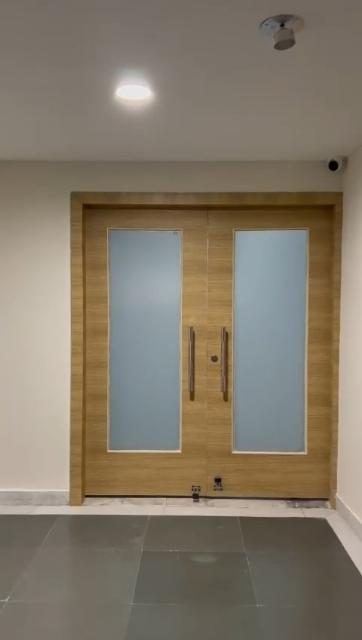door: (72, 189, 342, 499)
floor: (0, 503, 362, 636)
wall: (0, 153, 66, 491)
